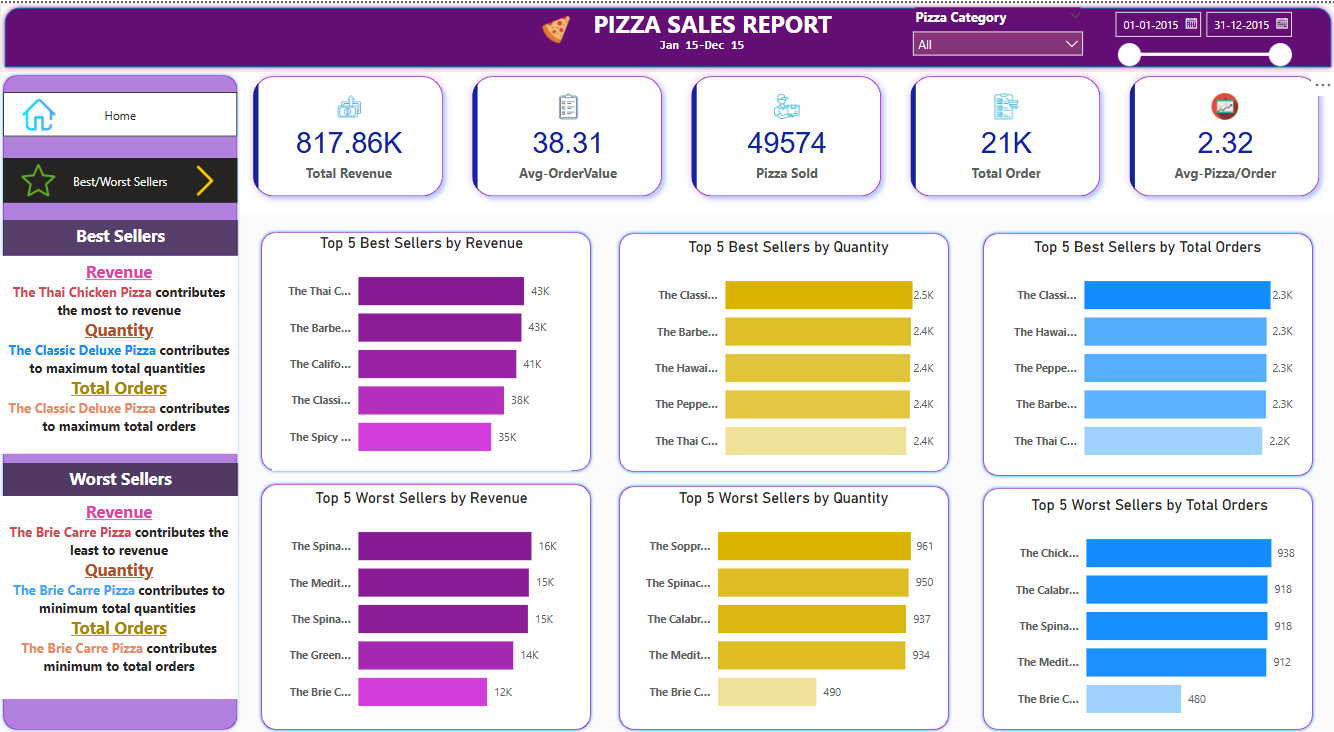

What the dashboard file says about the page in this screenshot:
{"tool":"powerbi","page":{"name":"Best/Worst Sellers","canvas":[1500,820],"ordinal":1},"visuals":[{"type":"cardVisual","fields":{"Data":["pizza_sales.Total Revenue","pizza_sales.Avg-OrderValue","pizza_sales.Pizza Sold","pizza_sales.Total Order","pizza_sales.Avg-Pizza/Order"]},"box":[267.2,65.1,1232.8,169.5],"z":0},{"type":"shape","box":[0,0,1500,77.5],"z":1000},{"type":"textbox","box":[658.6,0,281.6,64.7],"z":2000},{"type":"textbox","box":[724.5,32.9,127.2,36.3],"z":3000},{"type":"image","box":[433.8,9.1,381.5,42],"z":4000},{"type":"shape","box":[289.7,253.7,377.2,275.1],"z":5000},{"type":"shape","box":[0,77.5,270,742.1],"z":6000},{"type":"textbox","box":[3.4,243.6,263.8,40.4],"z":7000},{"type":"textbox","box":[0,284.1,267.2,222.3],"z":8000},{"type":"textbox","box":[3.4,516.5,263.8,37.1],"z":9000},{"type":"textbox","box":[0,553.5,267.2,227.9],"z":10000},{"type":"slicer","fields":{"Values":["pizza_sales.pizza_category"]},"box":[1015,0,211.1,68.5],"z":11000},{"type":"slicer","fields":{"Values":["pizza_sales.order_date"]},"box":[1239.5,0,218.9,77.5],"z":12000},{"type":"shape","box":[289.7,536.7,377.2,282.9],"z":13000},{"type":"shape","box":[691.6,254.9,377.2,275.1],"z":14000},{"type":"shape","box":[1100.3,541.2,377.2,278.4],"z":15000},{"type":"shape","box":[1100.3,254.9,377.2,279.6],"z":16000},{"type":"shape","box":[691.6,538.9,377.2,280.7],"z":17000},{"type":"clusteredBarChart","title":"Top  5 Best Sellers by Revenue","fields":{"Category":["pizza_sales.pizza_name"],"Y":["pizza_sales.Total Revenue"]},"box":[305.4,259.4,335.7,266.1],"z":18000},{"type":"clusteredBarChart","title":"Top  5 Worst Sellers by Revenue","fields":{"Category":["pizza_sales.pizza_name"],"Y":["pizza_sales.Total Revenue"]},"box":[305.4,545.7,335.7,266.1],"z":19000},{"type":"clusteredBarChart","title":"Top  5 Worst Sellers by Quantity","fields":{"Category":["pizza_sales.pizza_name"],"Y":["pizza_sales.Pizza Sold"]},"box":[706.2,545.7,346.9,266.1],"z":20000},{"type":"clusteredBarChart","title":"Top  5 Best Sellers by Quantity","fields":{"Category":["pizza_sales.pizza_name"],"Y":["Sum(pizza_sales.quantity)"]},"box":[717.4,263.8,335.7,266.1],"z":21000},{"type":"clusteredBarChart","title":"Top  5 Best Sellers by Total Orders","fields":{"Category":["pizza_sales.pizza_name"],"Y":["pizza_sales.Total Order"]},"box":[1120.5,263.8,335.7,266.1],"z":22000},{"type":"clusteredBarChart","title":"Top  5 Worst Sellers by Total Orders","fields":{"Category":["pizza_sales.pizza_name"],"Y":["pizza_sales.Total Order"]},"box":[1122.8,553.5,335.7,266.1],"z":23000},{"type":"pageNavigator","box":[3.4,99.9,263.8,50.5],"z":24000},{"type":"pageNavigator","box":[3.4,174,263.8,50.5],"z":25000},{"type":"image","box":[20.2,99.9,47.2,50.5],"z":26000},{"type":"image","box":[19.1,174,48.3,50.5],"z":27000},{"type":"image","box":[207.7,174,45,50.5],"z":28000}]}

Visuals, with their boxes in screenshot pixels (x1, y1, x2, y2), scaled from the page's 1500x820 canvas onto the 1334x732 screenshot:
cardVisual - pizza_sales.Total Revenue x pizza_sales.Avg-OrderValue: crop(238, 58, 1333, 209)
shape: crop(0, 0, 1333, 69)
textbox: crop(586, 0, 836, 58)
textbox: crop(644, 29, 757, 62)
image: crop(386, 8, 725, 46)
shape: crop(258, 226, 593, 472)
shape: crop(0, 69, 240, 731)
textbox: crop(3, 217, 238, 254)
textbox: crop(0, 254, 238, 452)
textbox: crop(3, 461, 238, 494)
textbox: crop(0, 494, 238, 698)
slicer - pizza_sales.pizza_category: crop(903, 0, 1090, 61)
slicer - pizza_sales.order_date: crop(1102, 0, 1297, 69)
shape: crop(258, 479, 593, 731)
shape: crop(615, 228, 951, 473)
shape: crop(979, 483, 1314, 731)
shape: crop(979, 228, 1314, 477)
shape: crop(615, 481, 951, 731)
"Top  5 Best Sellers by Revenue" clusteredBarChart: crop(272, 232, 570, 469)
"Top  5 Worst Sellers by Revenue" clusteredBarChart: crop(272, 487, 570, 725)
"Top  5 Worst Sellers by Quantity" clusteredBarChart: crop(628, 487, 937, 725)
"Top  5 Best Sellers by Quantity" clusteredBarChart: crop(638, 235, 937, 473)
"Top  5 Best Sellers by Total Orders" clusteredBarChart: crop(996, 235, 1295, 473)
"Top  5 Worst Sellers by Total Orders" clusteredBarChart: crop(999, 494, 1297, 731)
pageNavigator: crop(3, 89, 238, 134)
pageNavigator: crop(3, 155, 238, 200)
image: crop(18, 89, 60, 134)
image: crop(17, 155, 60, 200)
image: crop(185, 155, 225, 200)
